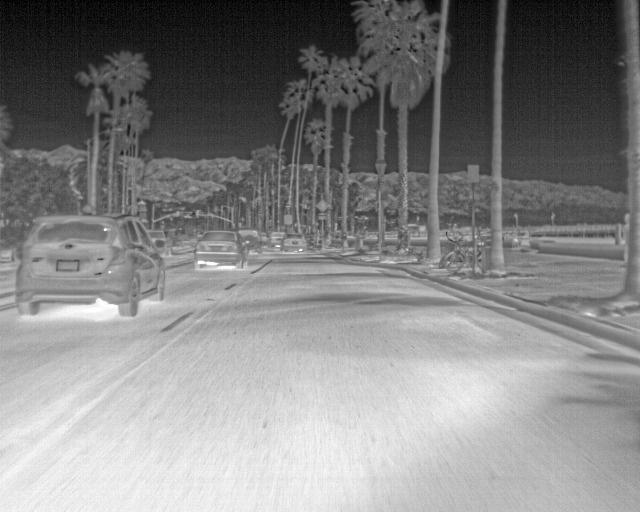bicycle: (14, 213, 169, 314), (194, 228, 247, 265), (147, 229, 174, 256), (236, 227, 262, 251), (280, 234, 306, 253), (268, 229, 286, 246)
